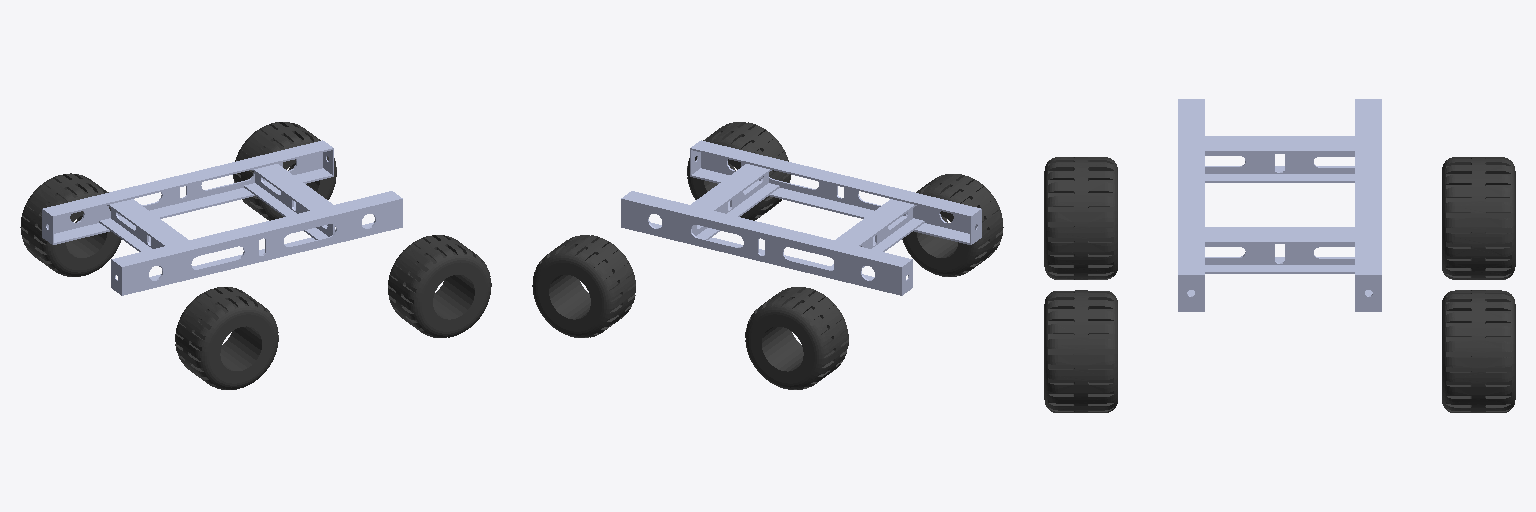
robot.urdf — robot_urdf:
<?xml version="1.0" encoding="utf-8"?>
<!-- This URDF was automatically created by SolidWorks to URDF Exporter! Originally created by [author] ([email redacted]) 
     Commit Version: 1.6.0-1-g15f4949  Build Version: 1.6.7594.29634
     For more information, please see http://wiki.ros.org/sw_urdf_exporter -->
<robot
  name="robot_urdf">
  <link
    name="base_link">
    <inertial>
      <origin
        xyz="0.1175 -0.0282239429813107 -0.064828772887583"
        rpy="0 0 0" />
      <mass
        value="14.2487993431658" />
      <inertia
        ixx="0.283227325634507"
        ixy="-0.000220348860027086"
        ixz="1.40177629801984E-16"
        iyy="2.01336374035702"
        iyz="-9.27554257715108E-05"
        izz="2.19532881115155" />
    </inertial>
    <visual>
      <origin
        xyz="0 0 0"
        rpy="0 0 0" />
      <geometry>
        <mesh
          filename="package://robot_urdf/meshes/base_link.STL" />
      </geometry>
      <material
        name="">
        <color
          rgba="0.792156862745098 0.819607843137255 0.933333333333333 1" />
      </material>
    </visual>
    <collision>
      <origin
        xyz="0 0 0"
        rpy="0 0 0" />
      <geometry>
        <mesh
          filename="package://robot_urdf/meshes/base_link.STL" />
      </geometry>
    </collision>
  </link>
  <link
    name="from_lw">
    <inertial>
      <origin
        xyz="0.876700766193184 0.698705813461268 -0.303714958820787"
        rpy="0 0 0" />
      <mass
        value="29.2723060846668" />
      <inertia
        ixx="0.611569828485071"
        ixy="1.35114162961979E-16"
        ixz="-1.42625377808511E-11"
        iyy="0.892248881148886"
        iyz="-1.44904388156335E-16"
        izz="0.611569828456168" />
    </inertial>
    <visual>
      <origin
        xyz="0 0 0"
        rpy="0 0 0" />
      <geometry>
        <mesh
          filename="package://robot_urdf/meshes/from_lw.STL" />
      </geometry>
      <material
        name="">
        <color
          rgba="0.298039215686275 0.298039215686275 0.298039215686275 1" />
      </material>
    </visual>
    <collision>
      <origin
        xyz="0 0 0"
        rpy="0 0 0" />
      <geometry>
        <mesh
          filename="package://robot_urdf/meshes/from_lw.STL" />
      </geometry>
    </collision>
  </link>
  <joint
    name="from_lj"
    type="revolute">
    <origin
      xyz="0 0 0"
      rpy="0 0 0" />
    <parent
      link="base_link" />
    <child
      link="from_lw" />
    <axis
      xyz="0 1 0" />
    <limit
      lower="0"
      upper="0"
      effort="0"
      velocity="0" />
  </joint>
  <link
    name="from_rw">
    <inertial>
      <origin
        xyz="0.876683400855439 -0.755184023401404 -0.303728175659267"
        rpy="0 0 0" />
      <mass
        value="29.2723060846669" />
      <inertia
        ixx="0.611569828490698"
        ixy="8.36511209904008E-17"
        ixz="-3.40560092124794E-12"
        iyy="0.892248881149007"
        iyz="-6.31731792368991E-17"
        izz="0.611569828450664" />
    </inertial>
    <visual>
      <origin
        xyz="0 0 0"
        rpy="0 0 0" />
      <geometry>
        <mesh
          filename="package://robot_urdf/meshes/from_rw.STL" />
      </geometry>
      <material
        name="">
        <color
          rgba="0.298039215686275 0.298039215686275 0.298039215686275 1" />
      </material>
    </visual>
    <collision>
      <origin
        xyz="0 0 0"
        rpy="0 0 0" />
      <geometry>
        <mesh
          filename="package://robot_urdf/meshes/from_rw.STL" />
      </geometry>
    </collision>
  </link>
  <joint
    name="from_rj"
    type="revolute">
    <origin
      xyz="0 0 0"
      rpy="0 0 0" />
    <parent
      link="base_link" />
    <child
      link="from_rw" />
    <axis
      xyz="0 -1 0" />
    <limit
      lower="0"
      upper="0"
      effort="0"
      velocity="0" />
  </joint>
  <link
    name="back_lw">
    <inertial>
      <origin
        xyz="-0.278299233806814 0.698705813461268 -0.303714958820793"
        rpy="0 0 0" />
      <mass
        value="29.2723060846662" />
      <inertia
        ixx="0.611569828461395"
        ixy="-9.01753540332497E-17"
        ixz="1.82075219925542E-11"
        iyy="0.892248881148729"
        iyz="-1.6751023233699E-17"
        izz="0.611569828479688" />
    </inertial>
    <visual>
      <origin
        xyz="0 0 0"
        rpy="0 0 0" />
      <geometry>
        <mesh
          filename="package://robot_urdf/meshes/back_lw.STL" />
      </geometry>
      <material
        name="">
        <color
          rgba="0.298039215686275 0.298039215686275 0.298039215686275 1" />
      </material>
    </visual>
    <collision>
      <origin
        xyz="0 0 0"
        rpy="0 0 0" />
      <geometry>
        <mesh
          filename="package://robot_urdf/meshes/back_lw.STL" />
      </geometry>
    </collision>
  </link>
  <joint
    name="back_lj"
    type="revolute">
    <origin
      xyz="0 0 0"
      rpy="0 0 0" />
    <parent
      link="base_link" />
    <child
      link="back_lw" />
    <axis
      xyz="0 1 0" />
    <limit
      lower="0"
      upper="0"
      effort="0"
      velocity="0" />
  </joint>
  <link
    name="back_rw">
    <inertial>
      <origin
        xyz="-0.278316599144561 -0.755184023401404 -0.303728175659267"
        rpy="0 0 0" />
      <mass
        value="29.2723060846668" />
      <inertia
        ixx="0.611569828486648"
        ixy="1.19677524979816E-16"
        ixz="1.24658732450631E-11"
        iyy="0.892248881148886"
        iyz="1.05134647168139E-18"
        izz="0.611569828454593" />
    </inertial>
    <visual>
      <origin
        xyz="0 0 0"
        rpy="0 0 0" />
      <geometry>
        <mesh
          filename="package://robot_urdf/meshes/back_rw.STL" />
      </geometry>
      <material
        name="">
        <color
          rgba="0.298039215686275 0.298039215686275 0.298039215686275 1" />
      </material>
    </visual>
    <collision>
      <origin
        xyz="0 0 0"
        rpy="0 0 0" />
      <geometry>
        <mesh
          filename="package://robot_urdf/meshes/back_rw.STL" />
      </geometry>
    </collision>
  </link>
  <joint
    name="back_rj"
    type="revolute">
    <origin
      xyz="0 0 0"
      rpy="0 0 0" />
    <parent
      link="base_link" />
    <child
      link="back_rw" />
    <axis
      xyz="0 -1 0" />
    <limit
      lower="0"
      upper="0"
      effort="30"
      velocity="30" />
  </joint>
</robot>

--- Render facts (derived) ---
Views: 3 orthographic renders of the robot side by side, from view 1: azimuth 30°, elevation 25°; view 2: azimuth 150°, elevation 25°; view 3: azimuth 270°, elevation 25°.
Model robot_urdf with 5 links and 4 joints (4 revolute), rooted at base_link, posed every joint at zero.
Visible links, largest first — view 1: base_link, back_rw, from_rw, back_lw, from_lw; view 2: base_link, back_lw, from_lw, back_rw, from_rw; view 3: base_link, back_lw, back_rw, from_lw, from_rw.
Link boxes in pixels (x1,y1,x2,y2): base_link: [42, 140, 402, 295]; back_rw: [175, 287, 278, 389]; from_rw: [388, 235, 491, 337]; back_lw: [20, 173, 121, 276]; from_lw: [233, 122, 336, 220]; base_link: [621, 140, 981, 295]; back_lw: [745, 287, 848, 389]; from_lw: [532, 235, 635, 337]; back_rw: [902, 174, 1003, 276]; from_rw: [687, 122, 790, 220]; base_link: [1178, 99, 1381, 311]; back_lw: [1442, 157, 1515, 279]; back_rw: [1044, 157, 1117, 279]; from_lw: [1442, 290, 1515, 412]; from_rw: [1044, 290, 1117, 412].
Size in the robot's own frame: 1.75 by 1.72 by 0.5387 metres.
Meshes: 5 distinct files referenced, 5 mesh visuals loaded (5 binary STL).